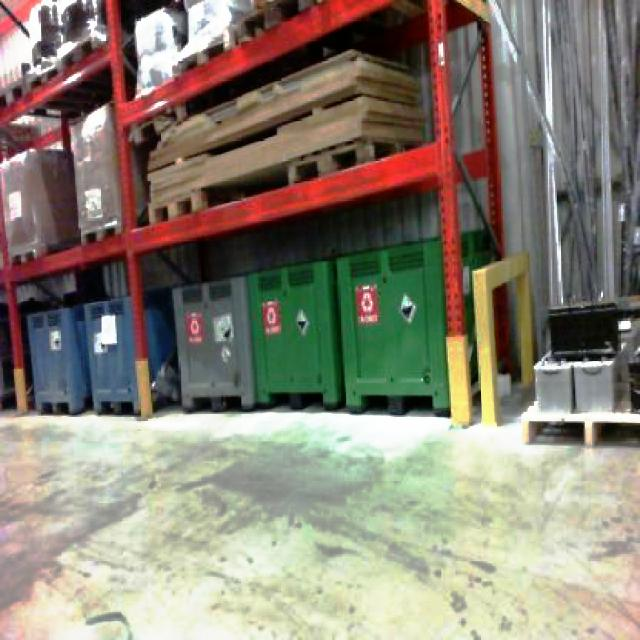ground: (0, 386, 638, 638)
pallet: (0, 224, 511, 425), (143, 46, 428, 220), (518, 291, 638, 448), (0, 24, 135, 115), (0, 193, 131, 275), (518, 403, 638, 448)
